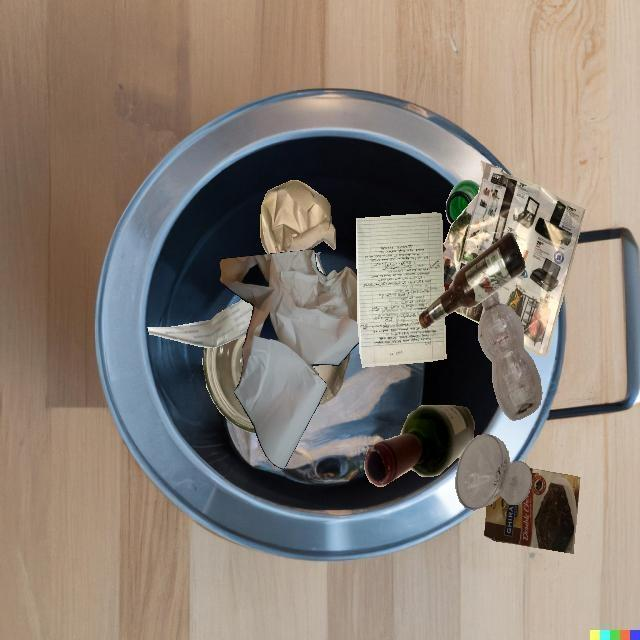cardboard: (484, 468, 580, 554)
glass: (418, 233, 525, 328), (364, 405, 474, 486), (455, 434, 532, 510), (202, 334, 256, 433), (445, 180, 480, 225)
paper: (219, 250, 359, 469), (443, 161, 585, 356), (356, 213, 446, 367), (260, 180, 336, 254), (147, 299, 253, 348), (313, 351, 350, 405)
plastic: (478, 291, 542, 420)
